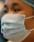with_mask: (2, 1, 34, 42)
